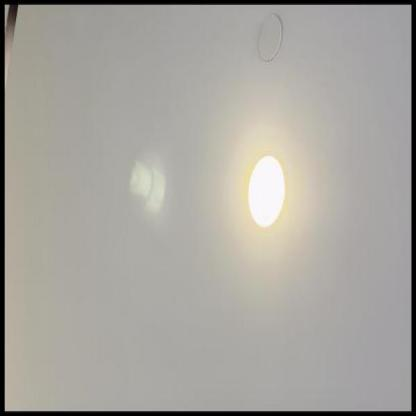light_on: (239, 132, 293, 246)
